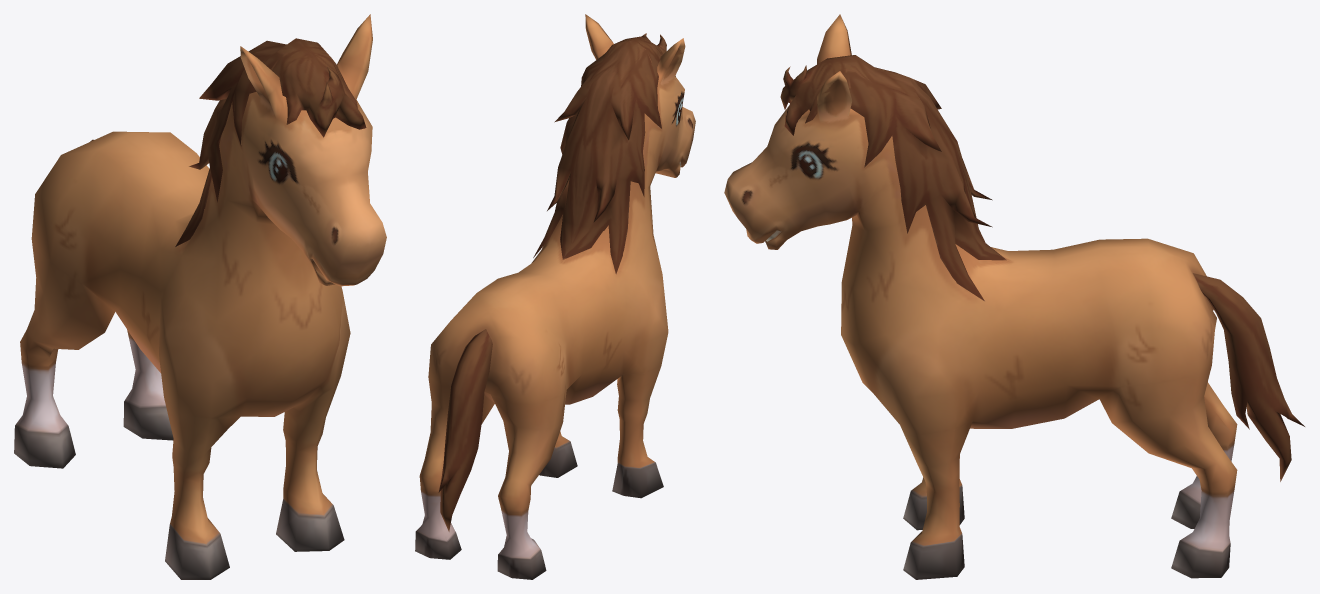
3 views of the same model, side by side, from view 1: azimuth 30°, elevation 25°; view 2: azimuth 150°, elevation 25°; view 3: azimuth 270°, elevation 25° (orthographic). The views are drawn at different scales.
Parts seen in each view (by area): view 1: ma; view 2: ma; view 3: ma.
Part boxes in pixels (x1,y1,x2,y2): ma: (14,14,386,579); ma: (415,14,695,579); ma: (724,14,1304,579).
Bounding box in the file's own units: 0.5807 × 1.79 × 1.88.
Materials: 1 (1 with a texture image).
